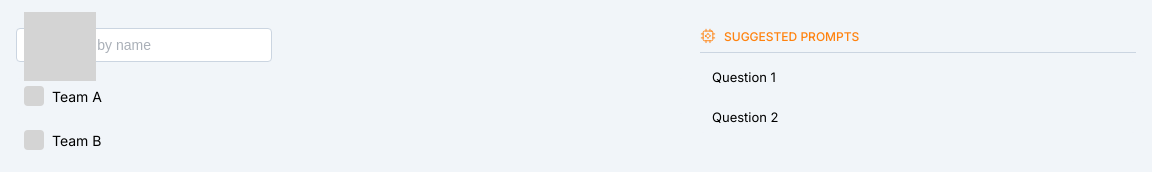
Test: HuskyAskPrompts › filters prompts based on search input
This screenshot has width=1152, height=172.
Expected: the text "Team A" is shown, [52,88,102,104]
Expected: the text "Team B" is shown, [52,132,102,148]
Step 1. Type "Team A" into the search field with placeholder "Search by name" → (144, 45), box [16,28,272,62]
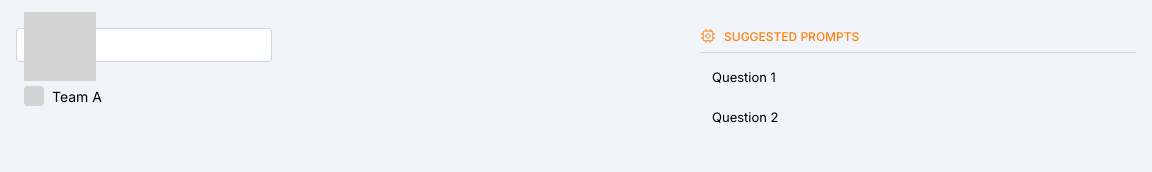
Expected: the text "Team A" is shown, [52,88,102,104]
Result: the text "Team B" is gone
